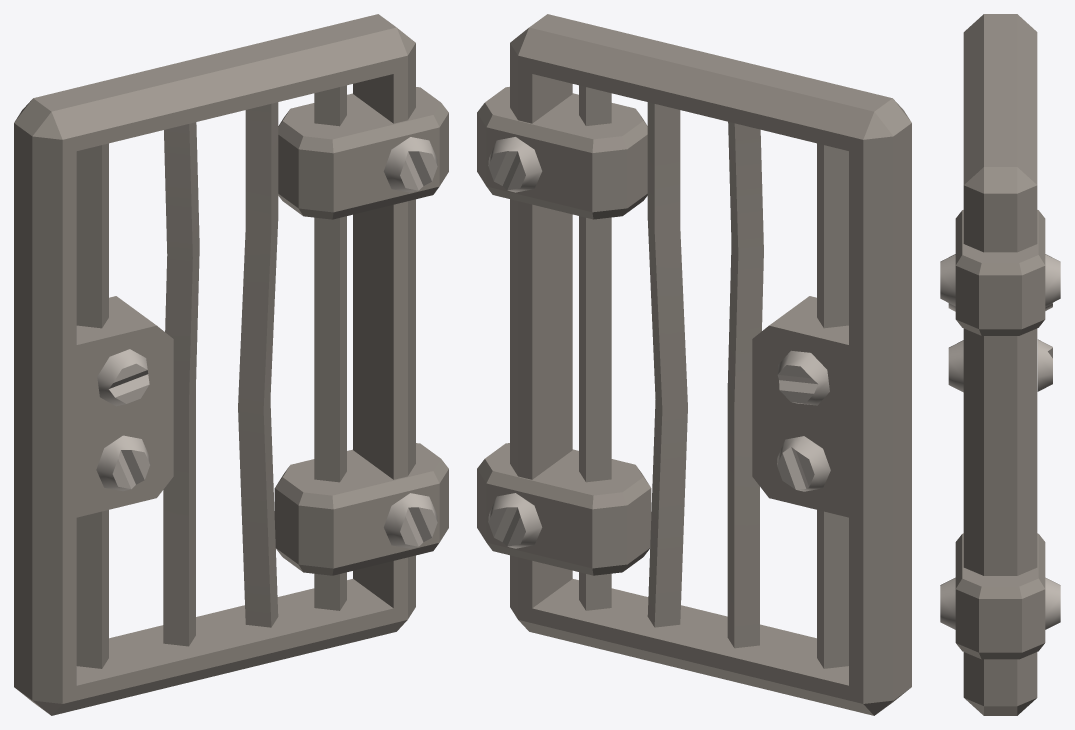
The model's file is m_dec_dung_doorGrid.fbx.
3 views of the same model, side by side, from view 1: azimuth 30°, elevation 25°; view 2: azimuth 150°, elevation 25°; view 3: azimuth 270°, elevation 25° (orthographic). The views are drawn at different scales.
Parts seen in each view (by area): view 1: m_dec_dung_doorGrid; view 2: m_dec_dung_doorGrid; view 3: m_dec_dung_doorGrid.
Boxes of the visible parts, box(x1,y1,x2,y2) form: m_dec_dung_doorGrid: box(14, 14, 448, 715); m_dec_dung_doorGrid: box(477, 14, 911, 715); m_dec_dung_doorGrid: box(940, 14, 1060, 715).
Bounding box in the file's own units: 2.16 × 3.01 × 0.5976.
